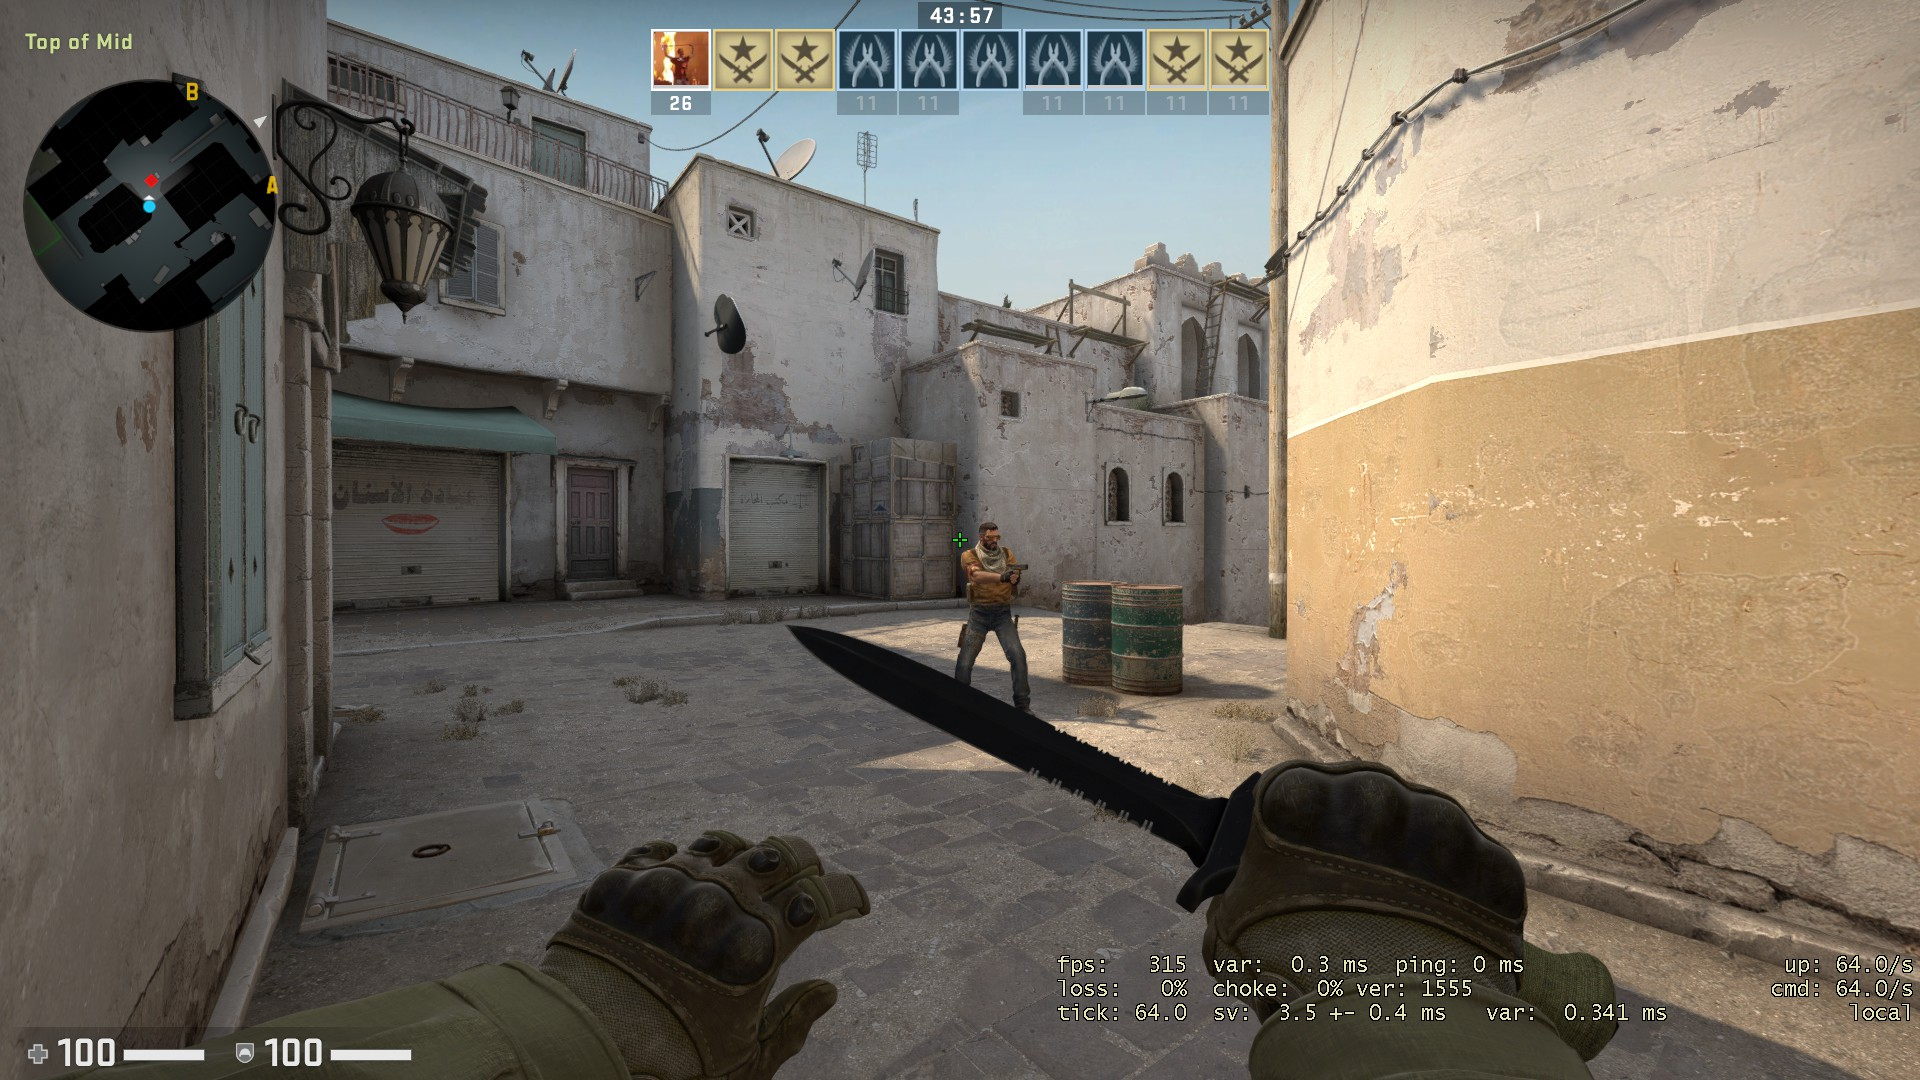player: (948, 521, 1045, 723)
